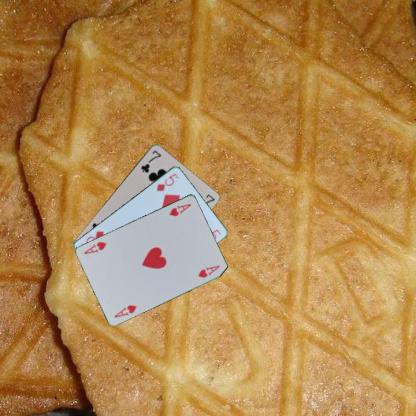5d: (154, 171, 180, 192)
7c: (138, 147, 162, 174)
Ah: (166, 201, 192, 217), (112, 302, 138, 318)
